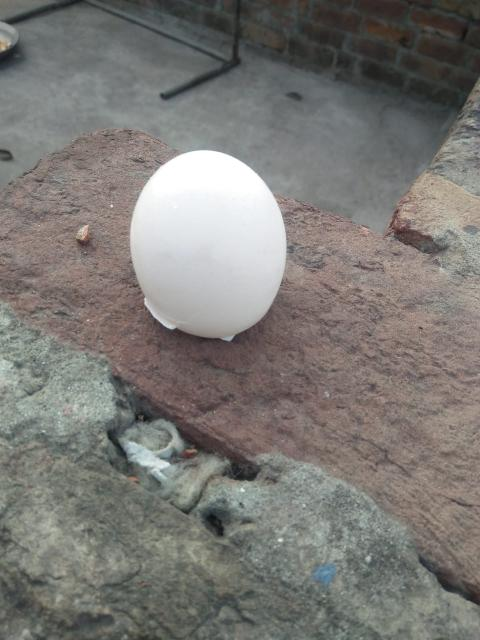Roto: (128, 148, 287, 342)
